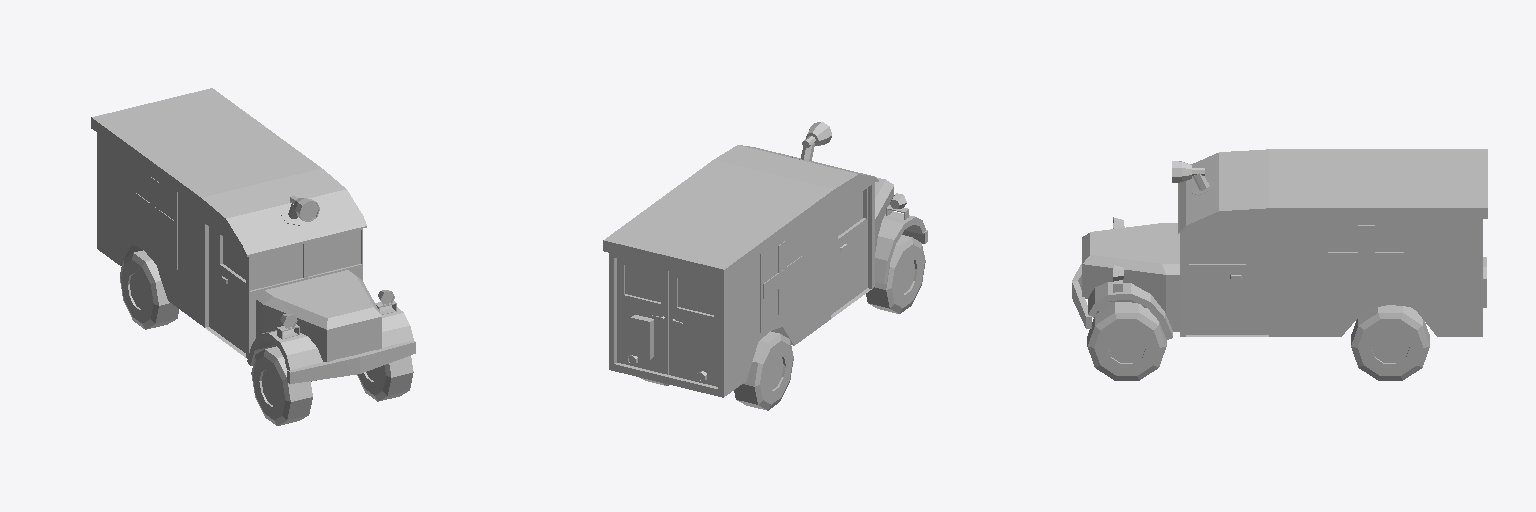
The model's file is AmbulanceCar.obj.
3 views of the same model, side by side, from view 1: azimuth 30°, elevation 25°; view 2: azimuth 150°, elevation 25°; view 3: azimuth 270°, elevation 25° (orthographic).
Visible parts, largest first — view 1: Ambulance_Cylinder.010; view 2: Ambulance_Cylinder.010; view 3: Ambulance_Cylinder.010.
Boxes of the visible parts, box(x1,y1,x2,y2) form: Ambulance_Cylinder.010: box(91, 88, 415, 425); Ambulance_Cylinder.010: box(603, 122, 927, 410); Ambulance_Cylinder.010: box(1072, 149, 1487, 380).
Size of the model in its own units: 1.49 by 2.13 by 4.24.